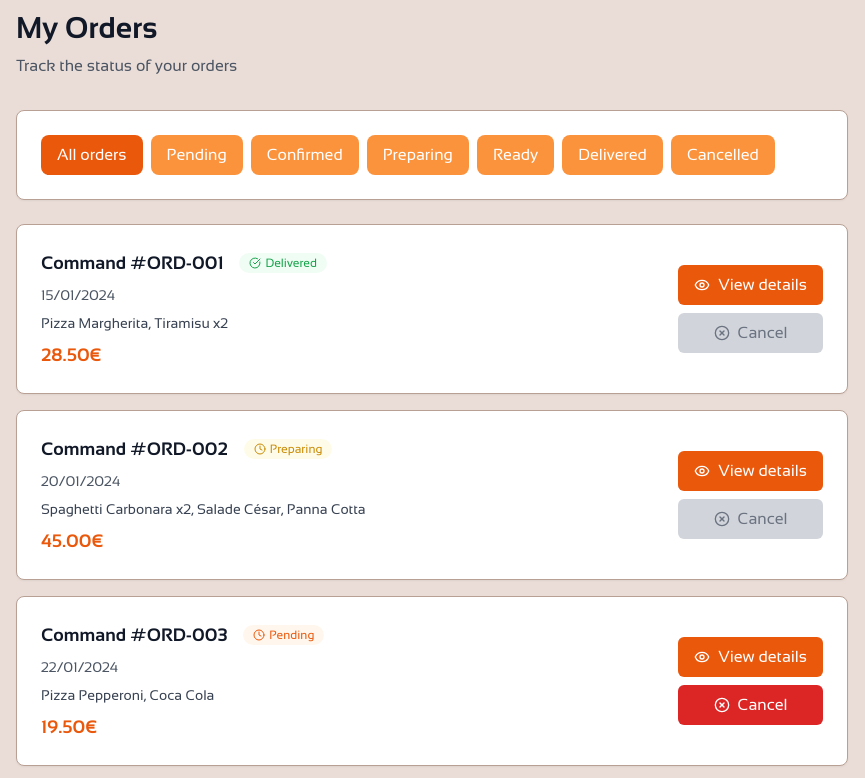
Test: Orders Component › should show all orders when "All orders" is selected
// First filter by delivered orders
What coordinates should you click on to do the following:
click the button "Delivered"
I would click on:
 (613, 155)
Its box is [562,135,663,175].
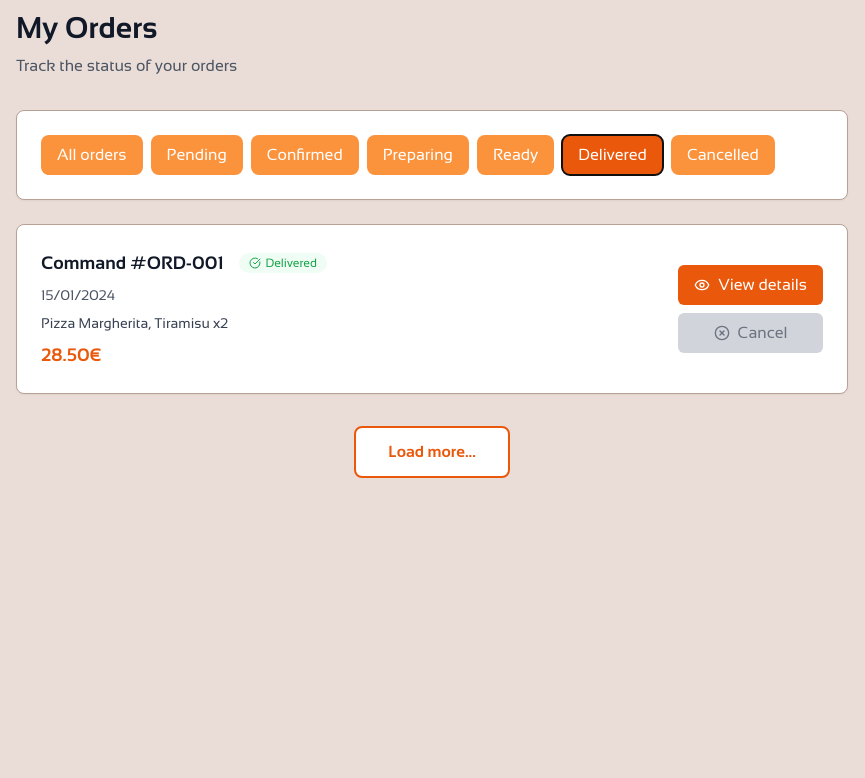
expect the heading "Command #ORD-002" is gone: met
// Then click "All orders"
What coordinates should you click on to do the following:
click the button "All orders"
I would click on:
 (92, 155)
Its box is [41,135,142,175].
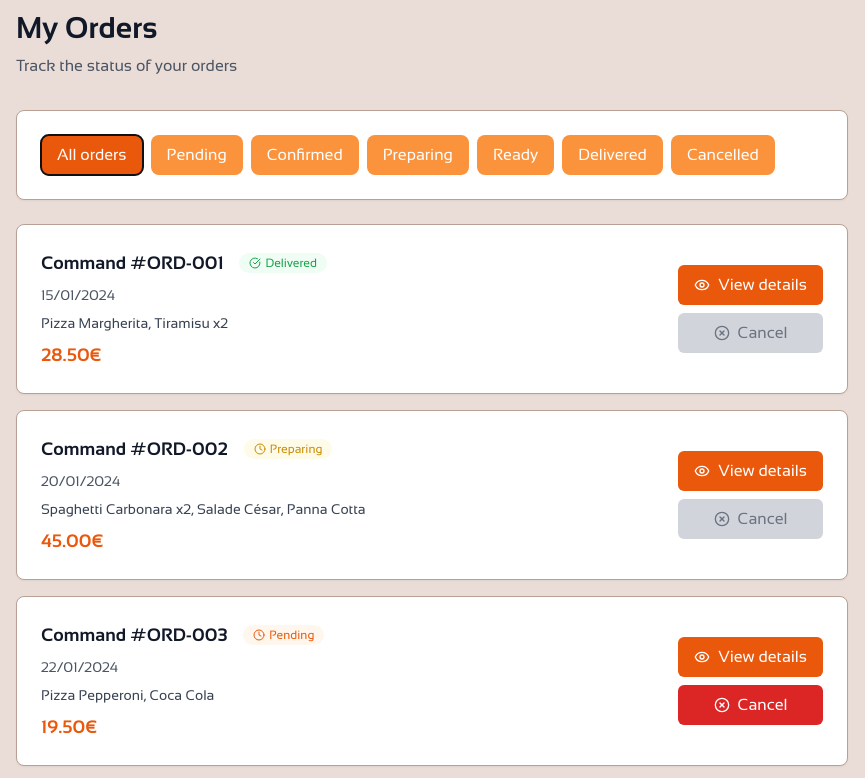
expect the heading "Command #ORD-001" is shown: met, box [41,249,224,277]
expect the heading "Command #ORD-002" is shown: met, box [41,435,228,463]
expect the heading "Command #ORD-003" is shown: met, box [41,621,227,649]
